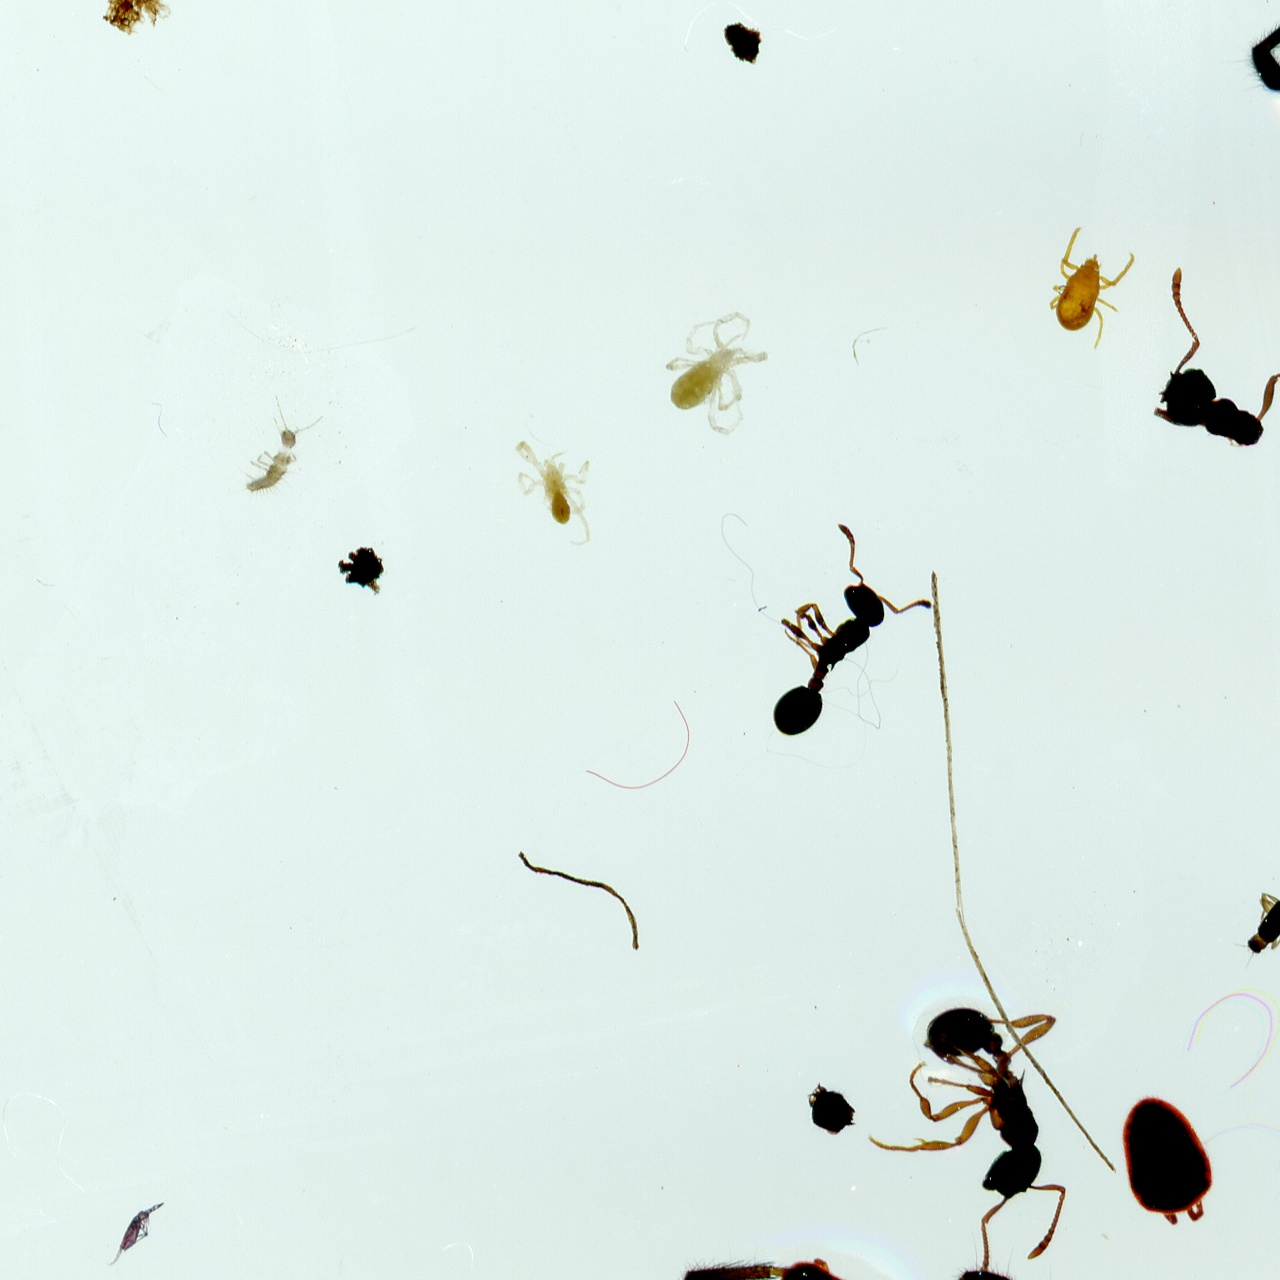arthropod: (722, 502, 965, 788), (860, 1000, 1071, 1278), (1150, 266, 1280, 450), (1108, 1092, 1220, 1232), (663, 307, 771, 442), (231, 383, 333, 517), (1042, 220, 1146, 349), (511, 437, 598, 551), (95, 1183, 182, 1280), (1233, 888, 1280, 972)
